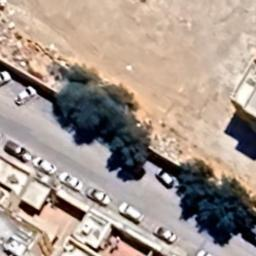SUV: (3, 138, 32, 164), (118, 200, 146, 224)
sedan: (13, 86, 37, 108), (58, 172, 84, 192), (86, 186, 110, 206), (32, 156, 57, 175), (154, 225, 178, 244), (0, 70, 12, 88)
van: (156, 168, 174, 188)
